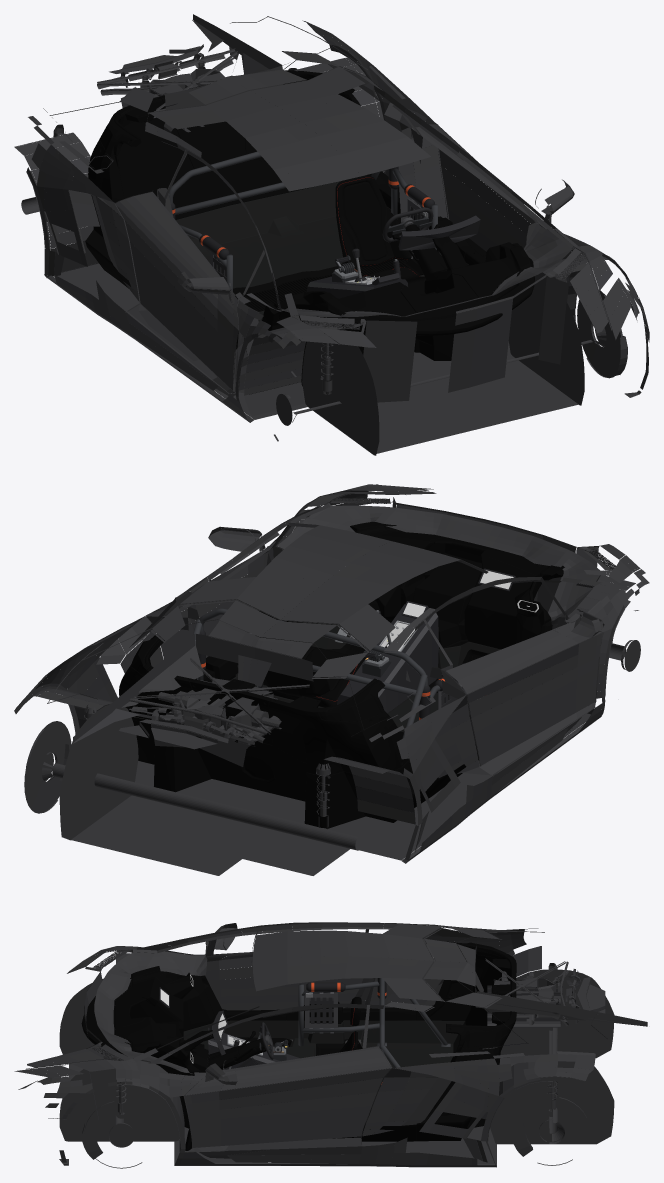
File: v1_cockpit.fbx
3 renders of one model, top to bottom at view 1: azimuth 30°, elevation 25°; view 2: azimuth 150°, elevation 25°; view 3: azimuth 270°, elevation 25°, orthographic. The views are drawn at different scales.
Visible parts, largest first — view 1: Body_Interior, interior.021, interior, interior.036, interior.039, interior.032, Cowl_Bridge, RollCage, interior.046, interior.003, interior.038, Int_C_009 (+10 smaller); view 2: Body_Interior, interior.039, interior, Cowl_Bridge, interior.036, interior.034, CentreConsole, interior.040, interior.021, RollCage, interior.038, interior.003 (+3 smaller); view 3: Body_Interior, interior.036, interior.021, Cowl_Bridge, interior, interior.039, RollCage, interior.037, interior.040, DoorNet_L, interior.034, interior.032 (+7 smaller).
Boxes of the visible parts, bbox=[...] form: Body_Interior: bbox=[14, 14, 649, 455]; interior.021: bbox=[175, 181, 468, 324]; interior: bbox=[88, 70, 360, 216]; interior.036: bbox=[274, 242, 533, 353]; interior.039: bbox=[85, 159, 399, 288]; interior.032: bbox=[340, 266, 534, 335]; Cowl_Bridge: bbox=[246, 223, 571, 317]; RollCage: bbox=[168, 151, 437, 304]; interior.046: bbox=[343, 181, 386, 260]; interior.003: bbox=[335, 175, 411, 270]; interior.038: bbox=[159, 83, 245, 168]; Int_C_009: bbox=[233, 250, 423, 311]; Body_Interior: bbox=[14, 484, 649, 875]; interior.039: bbox=[132, 720, 438, 828]; interior: bbox=[119, 655, 408, 776]; Cowl_Bridge: bbox=[277, 505, 599, 629]; interior.036: bbox=[350, 522, 563, 649]; interior.034: bbox=[413, 537, 507, 647]; CentreConsole: bbox=[337, 604, 438, 713]; interior.040: bbox=[130, 634, 385, 721]; interior.021: bbox=[230, 622, 526, 732]; RollCage: bbox=[193, 608, 467, 738]; interior.038: bbox=[190, 679, 272, 744]; interior.003: bbox=[255, 635, 329, 697]; Body_Interior: bbox=[14, 922, 647, 1168]; interior.036: bbox=[115, 966, 215, 1097]; interior.021: bbox=[183, 1020, 465, 1107]; Cowl_Bridge: bbox=[94, 951, 207, 1073]; interior: bbox=[438, 954, 516, 1098]; interior.039: bbox=[416, 999, 488, 1141]; RollCage: bbox=[298, 978, 450, 1088]; interior.037: bbox=[286, 1001, 416, 1141]; interior.040: bbox=[446, 941, 511, 1048]; DoorNet_L: bbox=[305, 992, 337, 1033]; interior.034: bbox=[115, 997, 204, 1047]; interior.032: bbox=[81, 974, 131, 1054].
Bounding box in the file's own units: 996 × 460 × 1739.
